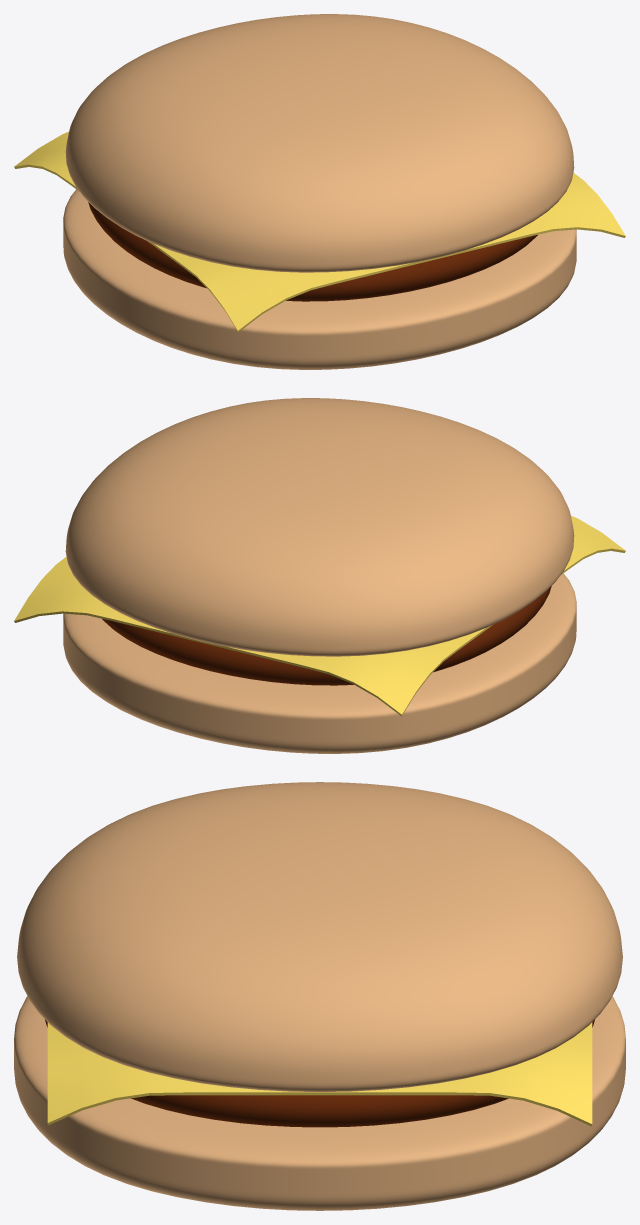
File: hamburger1.glb
The picture shows the model from 3 angles, top to bottom: view 1: azimuth 30°, elevation 25°; view 2: azimuth 150°, elevation 25°; view 3: azimuth 270°, elevation 25°; orthographic projection. The views are drawn at different scales.
Parts seen in each view (by area): view 1: Cube.002, Cube, Plane, Cube.001; view 2: Cube.002, Cube, Plane, Cube.001; view 3: Cube.002, Cube, Plane, Cube.001.
Part boxes in pixels (left/top/right/bottom): Cube.002: left=65, top=14, right=574, bottom=272; Cube: left=63, top=189, right=576, bottom=369; Plane: left=14, top=131, right=625, bottom=331; Cube.001: left=88, top=202, right=537, bottom=301; Cube.002: left=65, top=398, right=574, bottom=656; Cube: left=63, top=573, right=576, bottom=753; Plane: left=14, top=515, right=625, bottom=715; Cube.001: left=102, top=586, right=551, bottom=685; Cube.002: left=17, top=782, right=622, bottom=1091; Cube: left=14, top=996, right=625, bottom=1210; Plane: left=47, top=1022, right=592, bottom=1125; Cube.001: left=45, top=1019, right=594, bottom=1127.
Bounding box in the file's own units: 9.19 × 4.26 × 9.19.
